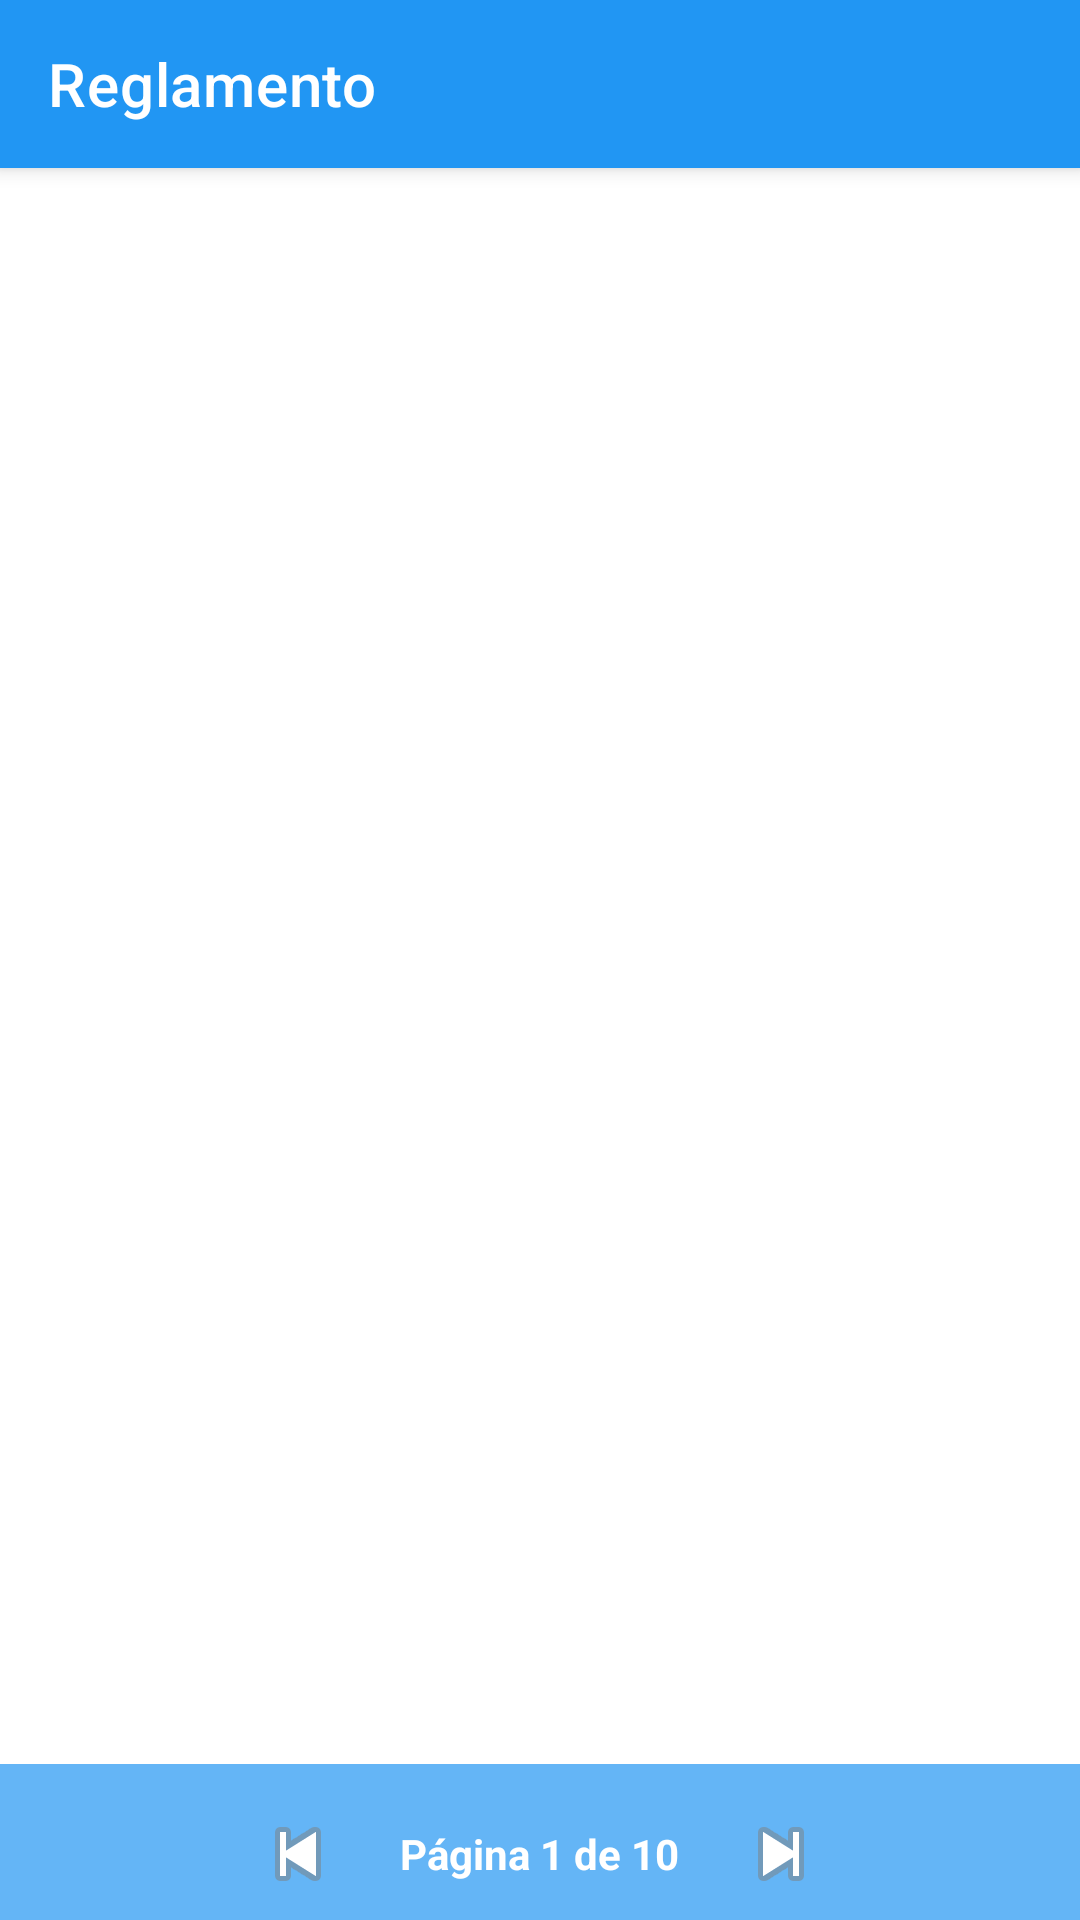

Icon click points for this 1080px×1920px phone screenshot, format (x,y):
Next Page: (781,1854)
Previous Page: (298,1854)
